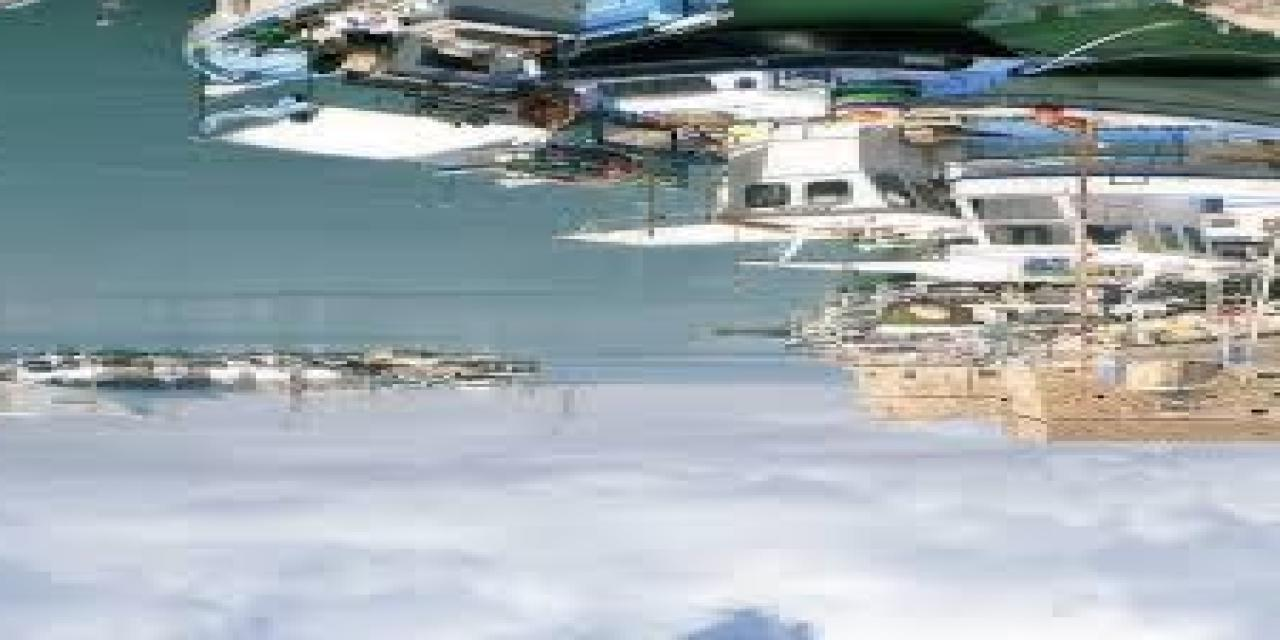Kules: (836, 362, 1280, 448)
